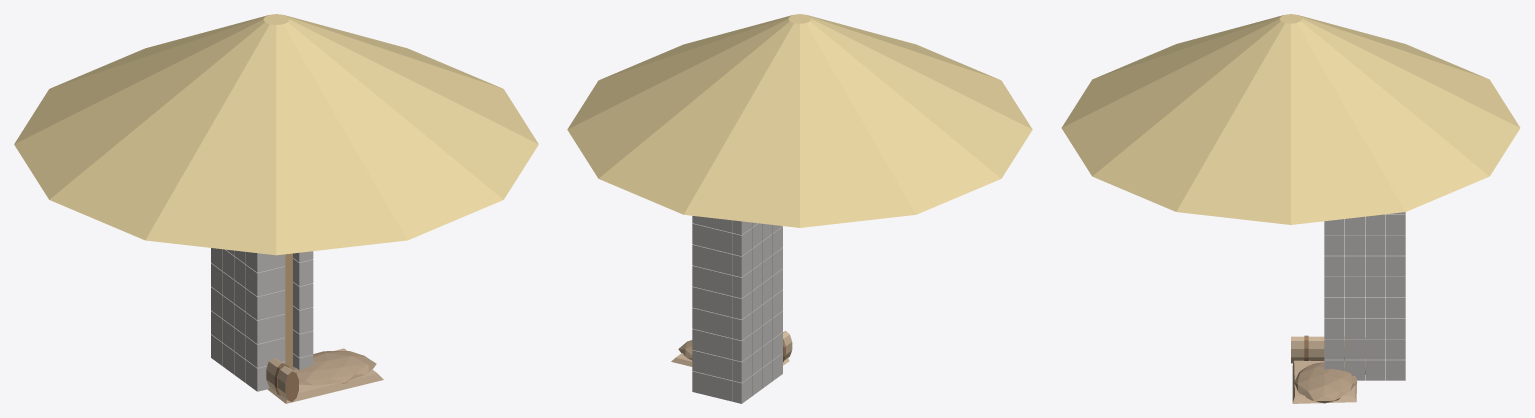
Rendered from building_stone_house_complete.glb.
The picture shows the model from 3 angles, left to right: view 1: azimuth 30°, elevation 25°; view 2: azimuth 150°, elevation 25°; view 3: azimuth 270°, elevation 25°; orthographic projection. The views are drawn at different scales.
Parts seen in each view (by area): view 1: building_stone_house_complete; view 2: building_stone_house_complete; view 3: building_stone_house_complete.
Boxes of the visible parts, <box> form: building_stone_house_complete: <box>14,14,538,403</box>; building_stone_house_complete: <box>567,14,1032,403</box>; building_stone_house_complete: <box>1061,14,1520,403</box>.
Size of the model in its own units: 4 by 3.29 by 4.
